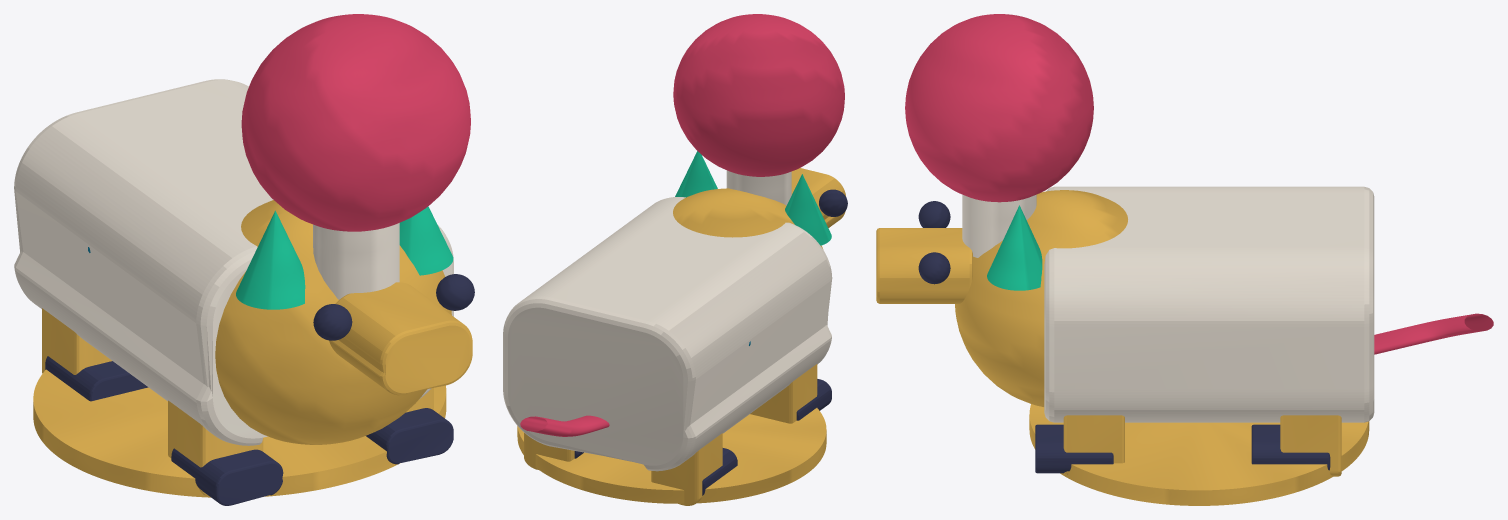
The model's file is 0836_两栖动物图鉴_非洲爪蟾.glb.
3 renders of one model, left to right at view 1: azimuth 30°, elevation 25°; view 2: azimuth 150°, elevation 25°; view 3: azimuth 270°, elevation 25°, orthographic. The views are drawn at different scales.
Visible parts, largest first — view 1: card_0836; view 2: card_0836; view 3: card_0836.
Part boxes in pixels (bbox=[...]): card_0836: bbox=[14, 14, 474, 505]; card_0836: bbox=[503, 14, 847, 505]; card_0836: bbox=[876, 14, 1493, 505].
Bounding box in the file's own units: 0.7941 × 1 × 1.37.
